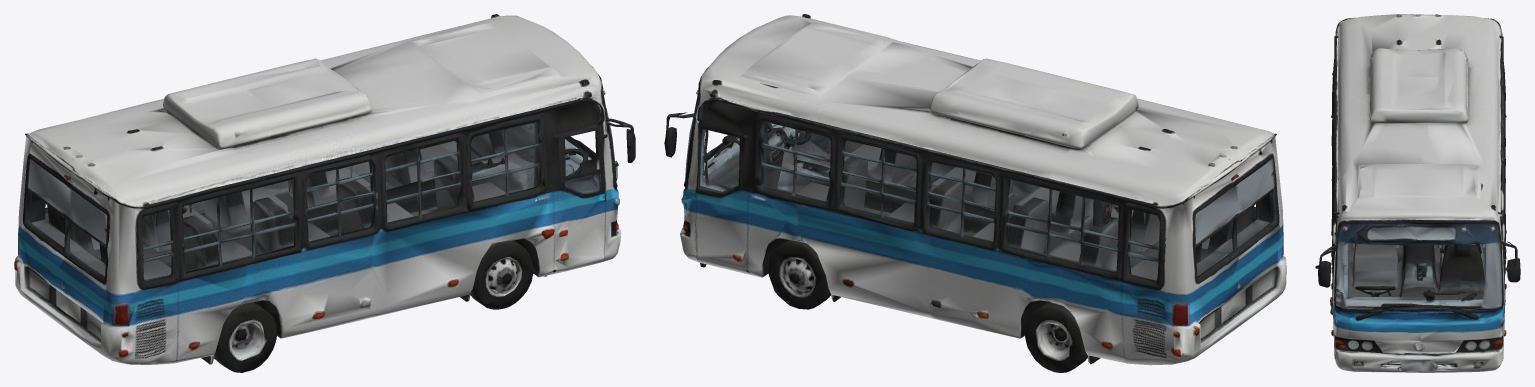
The model's file is bus.glb.
3 renders of one model, left to right at view 1: azimuth 30°, elevation 25°; view 2: azimuth 150°, elevation 25°; view 3: azimuth 270°, elevation 25°, orthographic. The views are drawn at different scales.
Parts seen in each view (by area): view 1: tripo_node_2b0a732c-0447-491d-8686-fd5e31ed3654; view 2: tripo_node_2b0a732c-0447-491d-8686-fd5e31ed3654; view 3: tripo_node_2b0a732c-0447-491d-8686-fd5e31ed3654.
Part boxes in pixels (x1,y1,x2,y2): tripo_node_2b0a732c-0447-491d-8686-fd5e31ed3654: (14, 14, 635, 372); tripo_node_2b0a732c-0447-491d-8686-fd5e31ed3654: (664, 14, 1286, 372); tripo_node_2b0a732c-0447-491d-8686-fd5e31ed3654: (1315, 14, 1520, 372).
Bounding box in the file's own units: 0.9993 × 0.4162 × 0.4073.
1 material, 1 textured.
